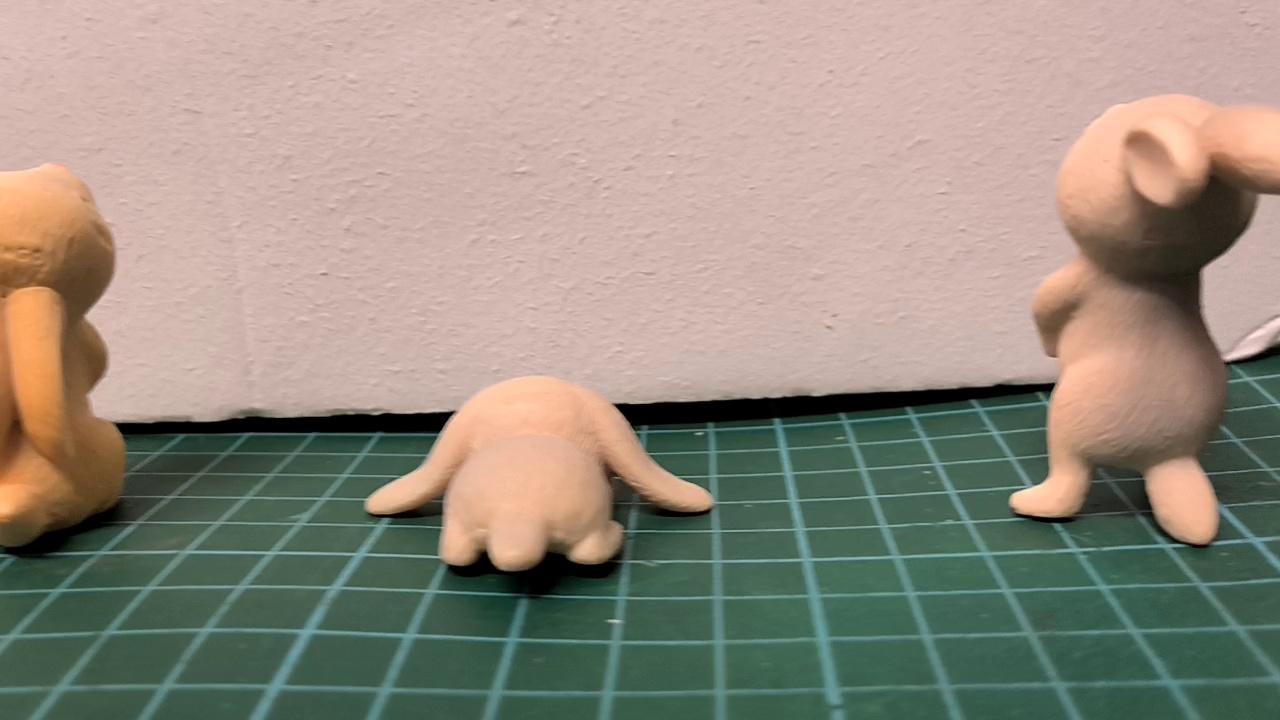pet: (1008, 93, 1280, 546), (366, 375, 714, 573), (0, 161, 128, 553)
